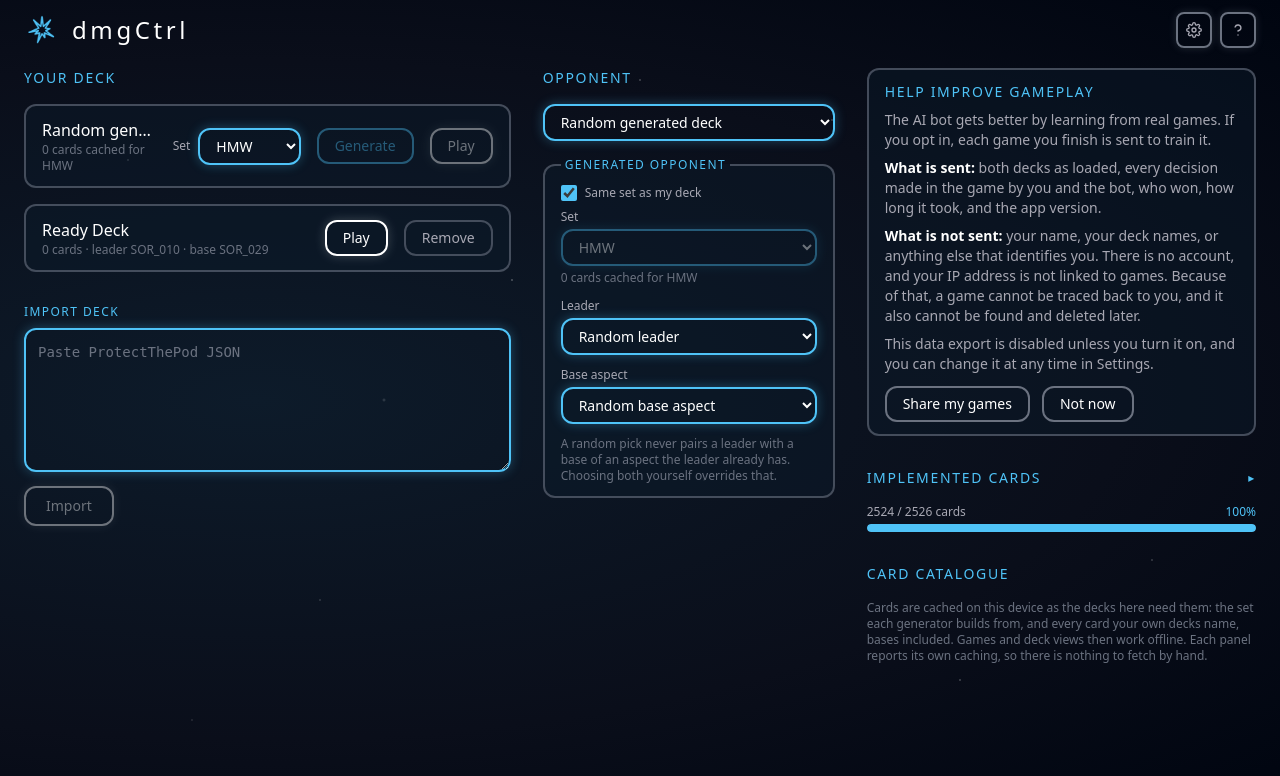
Test: App shell › exits the game via the dmgCtrl icon, returning to decks
Click the button "Play" in the row of "Ready Deck": click(356, 238) [325,220,388,256]
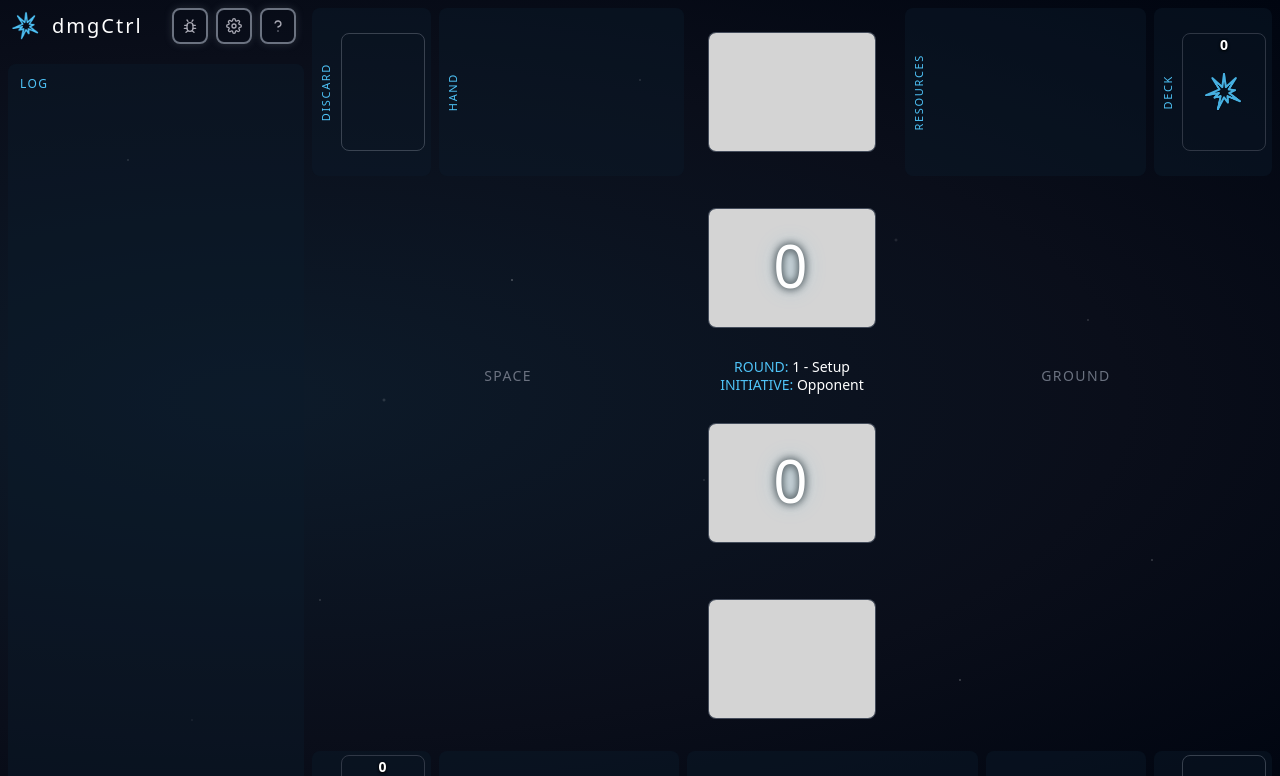
Click the button with test id "exit-btn": click(26, 26) [8,8,44,44]
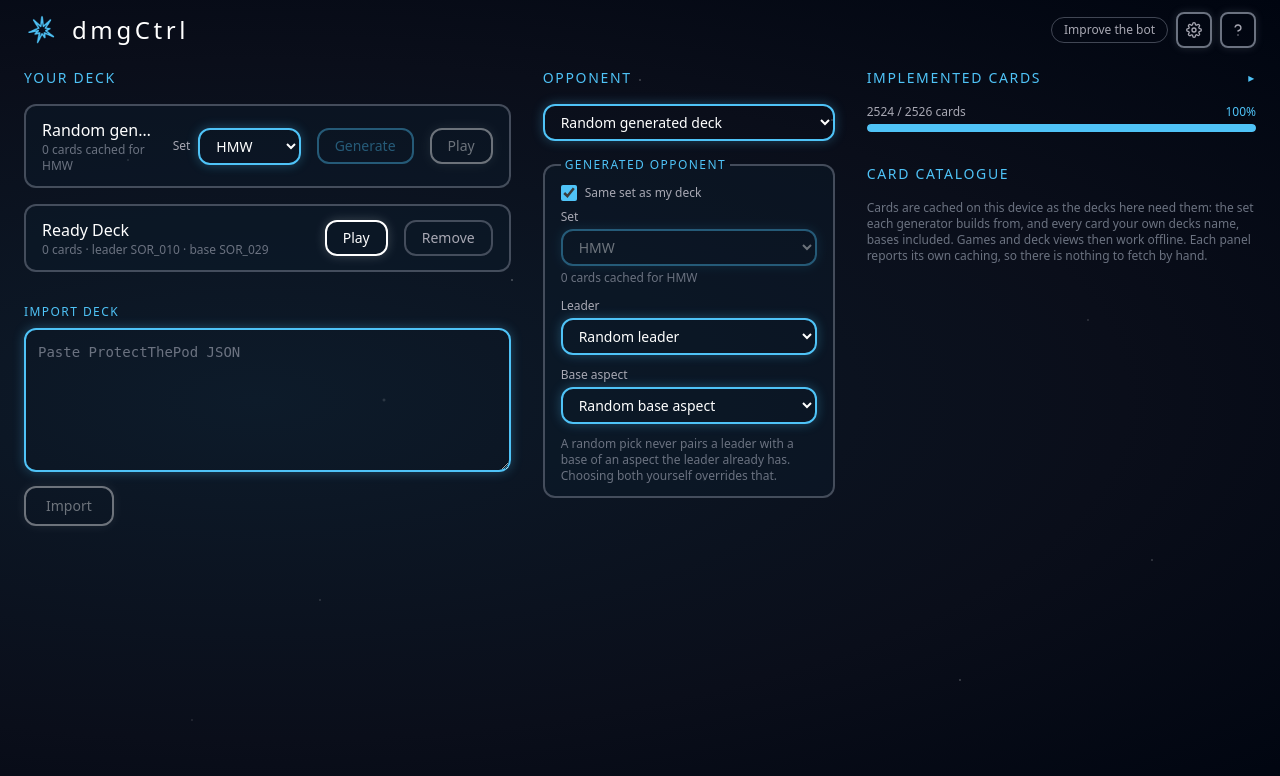
Expected: the element with test id "deck-select-screen" is shown, [24,68,1256,526]
